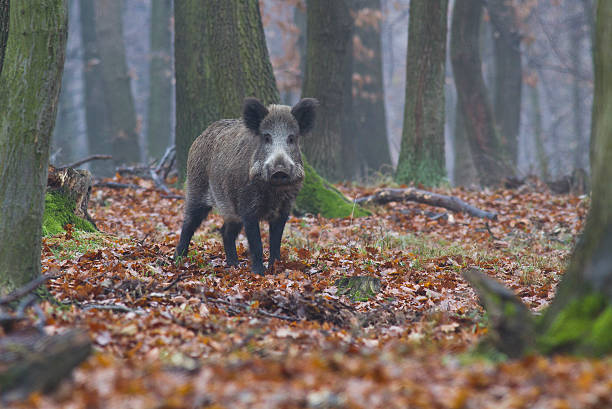pig: (167, 98, 322, 260)
